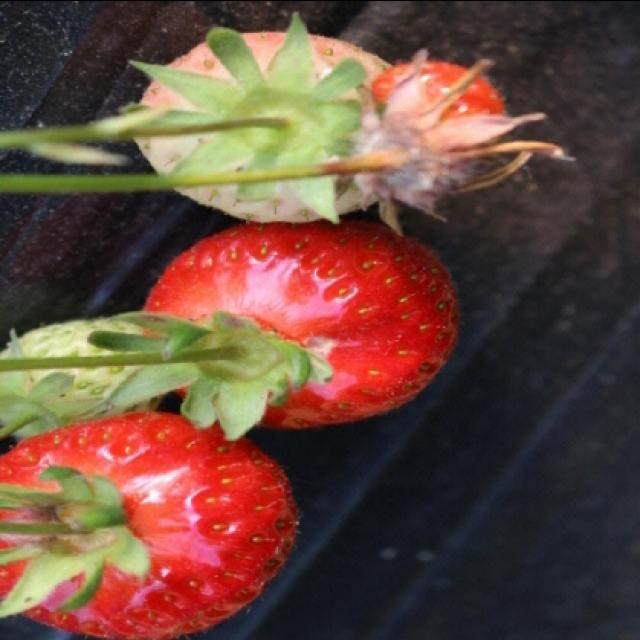Gray Mold: (328, 47, 562, 235)
